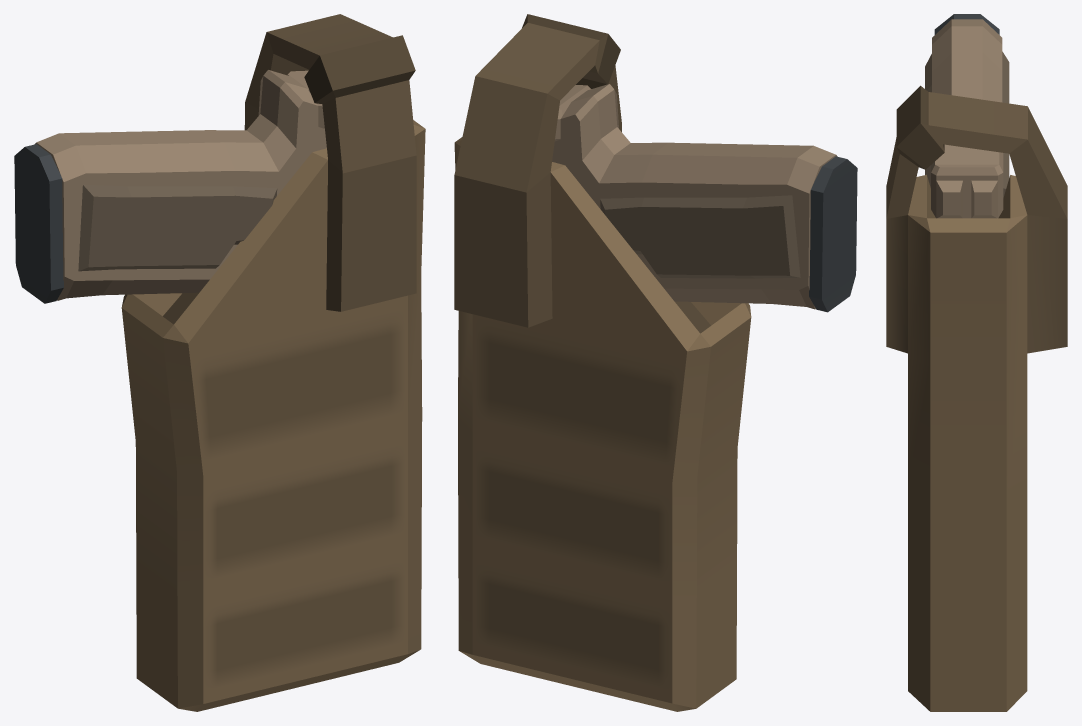
File: SM_Chr_Attach_Holster_Pistol_02.fbx
3 views of the same model, side by side, from view 1: azimuth 30°, elevation 25°; view 2: azimuth 150°, elevation 25°; view 3: azimuth 270°, elevation 25° (orthographic). The views are drawn at different scales.
Visible parts, largest first — view 1: SM_Chr_Attach_Holster_Pistol_02; view 2: SM_Chr_Attach_Holster_Pistol_02; view 3: SM_Chr_Attach_Holster_Pistol_02.
Part boxes in pixels (x1,y1,x2,y2): SM_Chr_Attach_Holster_Pistol_02: [14, 14, 425, 711]; SM_Chr_Attach_Holster_Pistol_02: [454, 14, 857, 711]; SM_Chr_Attach_Holster_Pistol_02: [886, 14, 1067, 711].
Bounding box in the file's own units: 20.51 × 33.12 × 9.28.
